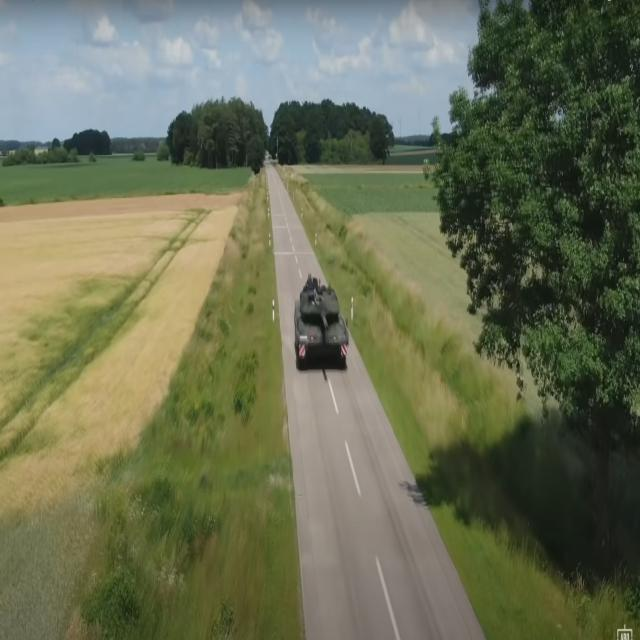MBT: (294, 271, 352, 377)
